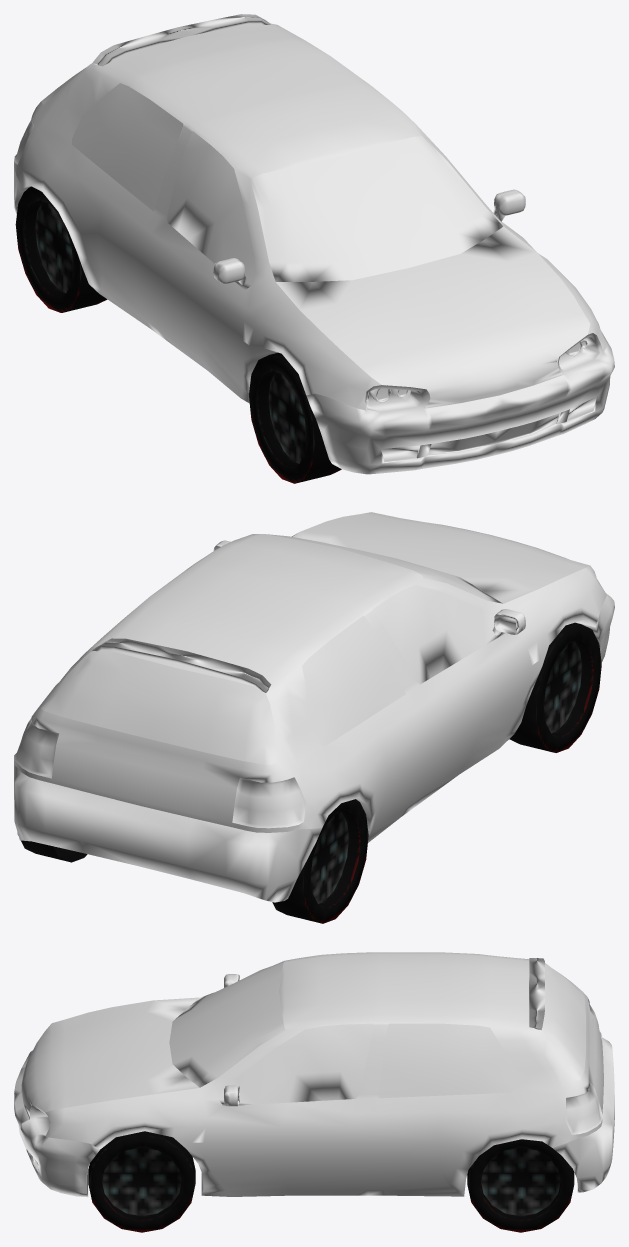
The model's file is shitbox.fbx.
3 renders of one model, top to bottom at view 1: azimuth 30°, elevation 25°; view 2: azimuth 150°, elevation 25°; view 3: azimuth 270°, elevation 25°, orthographic. The views are drawn at different scales.
Visible parts, largest first — view 1: wolf_body.001, wheel.002, wheel.003; view 2: wolf_body.001, wheel.002, wheel.003, wheel.001; view 3: wolf_body.001, wheel, wheel.001.
Part boxes in pixels (x1,y1,x2,y2): wolf_body.001: (14, 14, 614, 474); wheel.002: (249, 352, 341, 483); wheel.003: (15, 186, 107, 312); wolf_body.001: (14, 512, 614, 902); wheel.002: (509, 622, 601, 752); wheel.003: (272, 799, 368, 923); wheel.001: (17, 833, 87, 862); wolf_body.001: (14, 952, 614, 1197); wheel: (88, 1131, 195, 1232); wheel.001: (467, 1139, 574, 1232).
Size of the model in its own units: 112 by 83.21 by 233.
